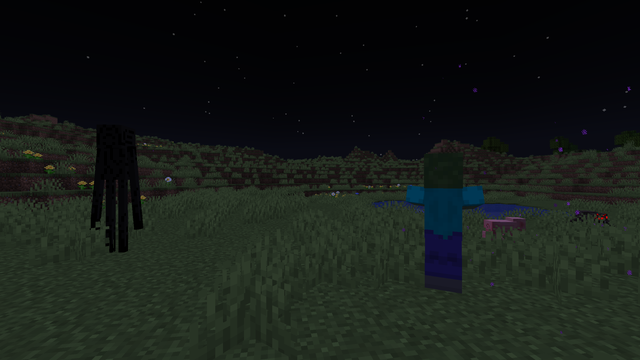araignees: (568, 209, 618, 229)
cochons: (482, 218, 518, 243)
endermens: (92, 119, 138, 255)
zombies: (413, 155, 474, 296)
